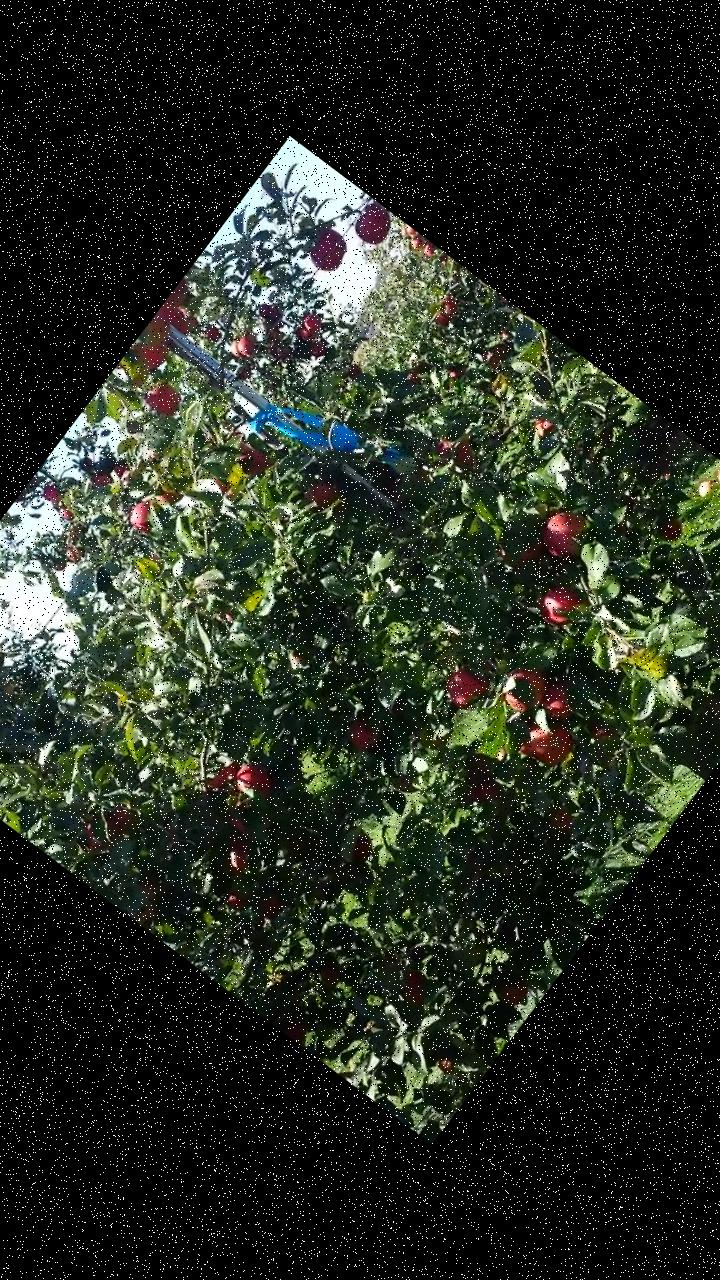Apple: (514, 710, 582, 776), (532, 502, 596, 568), (492, 518, 550, 578), (494, 660, 551, 719), (344, 196, 398, 250), (119, 872, 172, 927), (437, 658, 490, 713), (300, 223, 353, 277), (224, 756, 276, 806), (430, 426, 481, 476), (220, 793, 268, 841), (529, 580, 576, 628), (534, 676, 580, 722), (212, 834, 258, 878), (90, 800, 134, 844), (456, 746, 500, 790), (390, 964, 434, 1008), (140, 377, 184, 420), (202, 754, 243, 798), (128, 332, 170, 372), (231, 442, 272, 482), (492, 972, 533, 1012), (158, 276, 196, 319), (463, 772, 502, 811), (73, 820, 113, 858), (121, 496, 159, 535), (302, 476, 338, 512), (650, 512, 686, 547), (342, 718, 378, 752), (343, 831, 377, 867), (206, 467, 241, 499), (154, 298, 187, 331), (252, 888, 284, 922), (585, 716, 617, 748), (141, 315, 173, 346), (152, 481, 184, 512), (310, 958, 342, 989), (544, 804, 576, 835), (280, 1016, 313, 1046), (220, 886, 251, 914), (166, 310, 194, 338), (430, 1053, 458, 1079), (526, 413, 550, 438)
